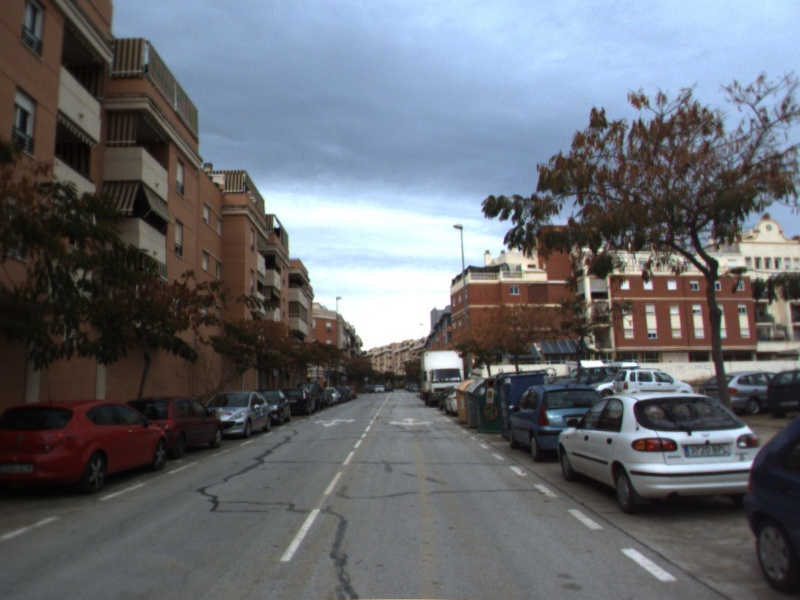STRAIGHT_LEFT_RIGHT: (386, 415, 436, 428)
